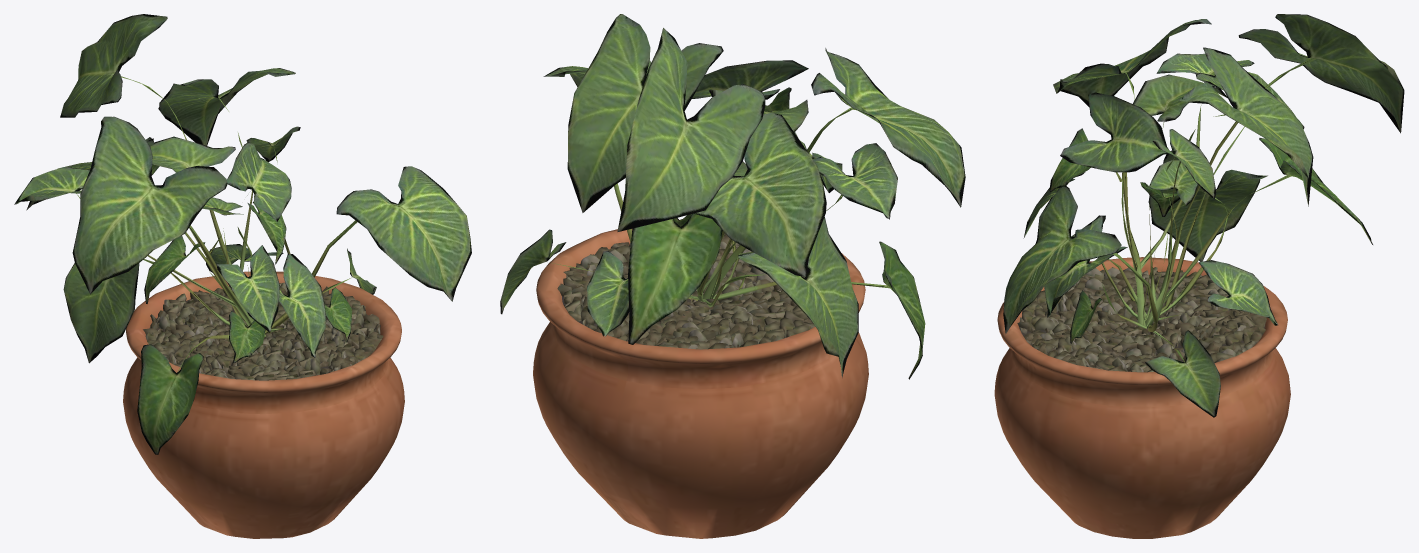
Rendered from potted_plant_02.glb.
3 views of the same model, side by side, from view 1: azimuth 30°, elevation 25°; view 2: azimuth 150°, elevation 25°; view 3: azimuth 270°, elevation 25° (orthographic). The views are drawn at different scales.
Visible parts, largest first — view 1: potted_plant_02_leaves, potted_plant_02_pot; view 2: potted_plant_02_leaves, potted_plant_02_pot; view 3: potted_plant_02_pot, potted_plant_02_leaves.
Part boxes in pixels (bbox=[...]): potted_plant_02_leaves: bbox=[14, 14, 471, 454]; potted_plant_02_pot: bbox=[123, 271, 404, 538]; potted_plant_02_leaves: bbox=[500, 14, 965, 379]; potted_plant_02_pot: bbox=[533, 229, 868, 538]; potted_plant_02_pot: bbox=[994, 257, 1290, 538]; potted_plant_02_leaves: bbox=[1003, 14, 1404, 417].
Size of the model in its own units: 0.7012 by 0.8401 by 0.6558.
2 materials, 2 textured.
